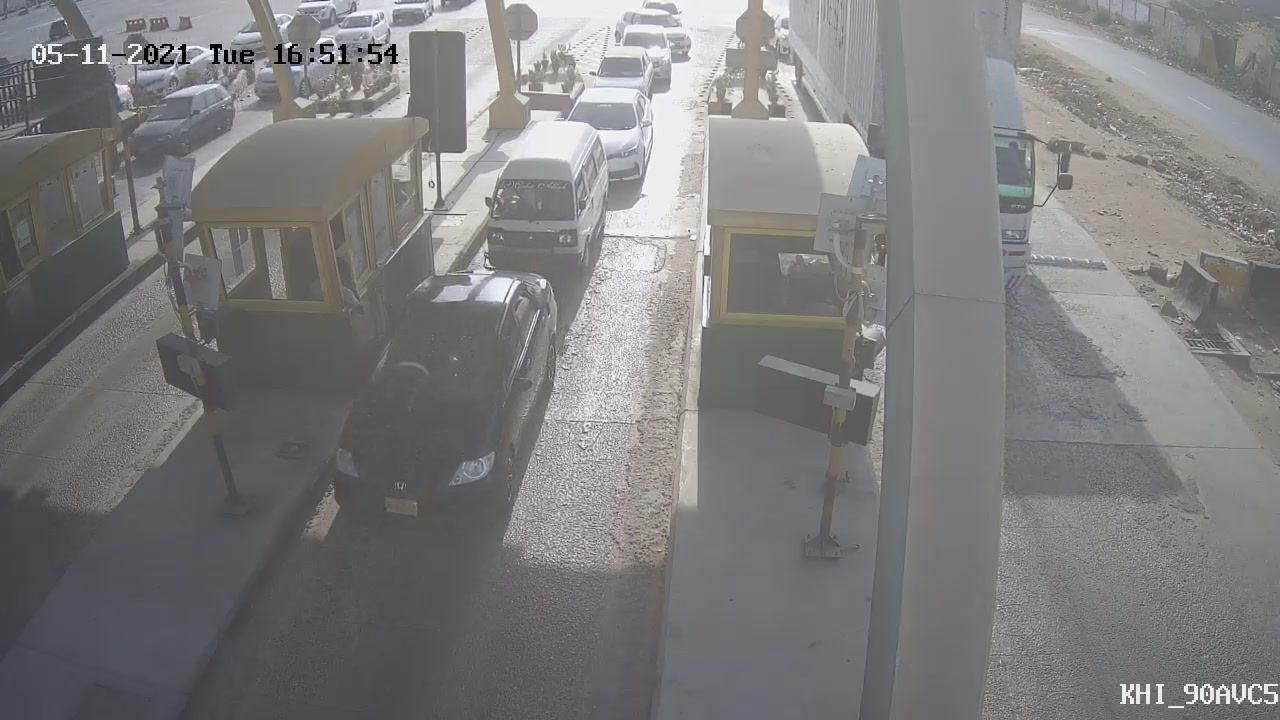F1: (312, 248, 583, 549), (464, 108, 629, 294)
